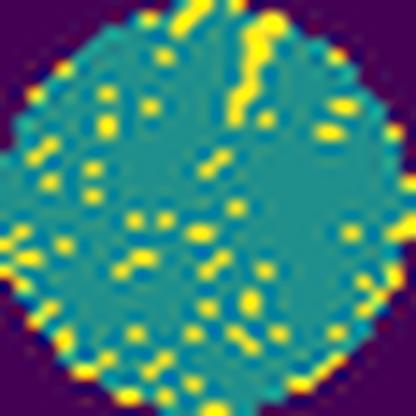Scratch: (222, 11, 288, 132)
